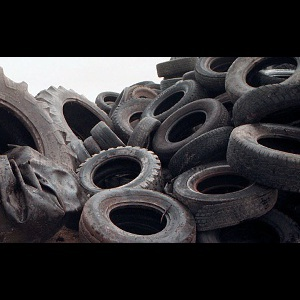tire: (174, 157, 279, 231), (77, 188, 196, 242), (154, 97, 227, 167), (226, 122, 300, 191), (74, 145, 161, 201), (224, 55, 300, 106), (140, 78, 206, 135), (233, 86, 300, 129)
